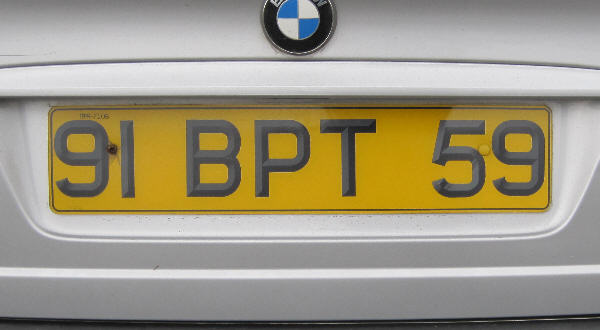license_plate: (47, 105, 554, 214)
